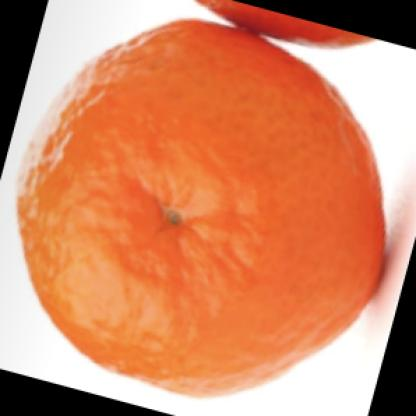fresh: (19, 20, 389, 399)
